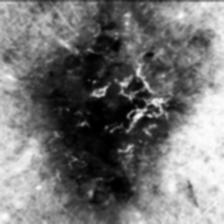Potentially Malignant Skin Tumors: (47, 24, 165, 194)
